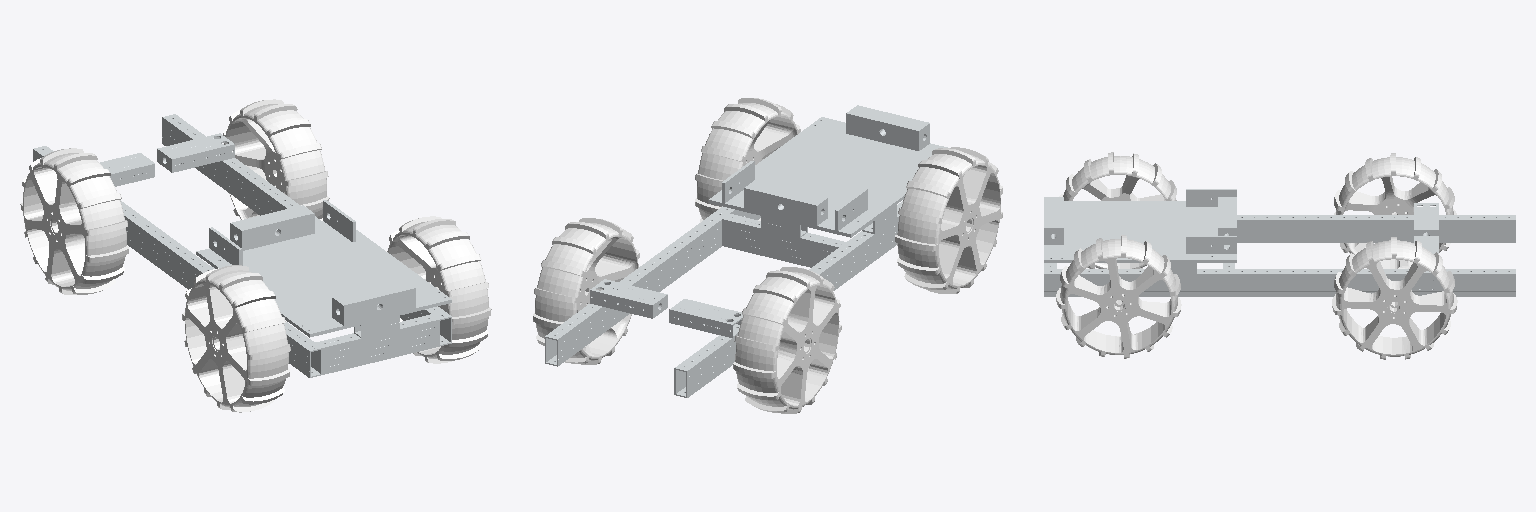
robot.urdf — rmc_robot_model:
<?xml version="1.0" encoding="utf-8"?>
<!-- This URDF was automatically created by SolidWorks to URDF Exporter! Originally created by [author] ([email redacted]) 
     Commit Version: 1.5.1-0-g916b5db  Build Version: 1.5.7152.31018
     For more information, please see http://wiki.ros.org/sw_urdf_exporter -->
<robot
  name="rmc_robot_model">
  <link
    name="drivetrainbase">
    <inertial>
      <origin
        xyz="0.24715 0.13761 -0.49957"
        rpy="0 0 0" />
      <mass
        value="2.0869" />
      <inertia
        ixx="0.13683"
        ixy="1.8812E-09"
        ixz="3.7205E-07"
        iyy="0.13666"
        iyz="-4.5738E-05"
        izz="0.0010745" />
    </inertial>
    <visual>
      <origin
        xyz="0 0 0"
        rpy="0 0 0" />
      <geometry>
        <mesh
          filename="package://rmc_robot_model/meshes/drivetrainbase.STL" />
      </geometry>
      <material
        name="">
        <color
          rgba="0.89804 0.91765 0.92941 1" />
      </material>
    </visual>
    <collision>
      <origin
        xyz="0 0 0"
        rpy="0 0 0" />
      <geometry>
        <mesh
          filename="package://rmc_robot_model/meshes/drivetrainbase.STL" />
      </geometry>
    </collision>
  </link>
  <link
    name="wheel1">
    <inertial>
      <origin
        xyz="-1.7007E-10 2.2216E-10 0.0034061"
        rpy="0 0 0" />
      <mass
        value="1.2142" />
      <inertia
        ixx="0.0059682"
        ixy="-1.7903E-09"
        ixz="-1.7457E-11"
        iyy="0.0059682"
        iyz="9.5183E-12"
        izz="0.01094" />
    </inertial>
    <visual>
      <origin
        xyz="0 0 0"
        rpy="0 0 0" />
      <geometry>
        <mesh
          filename="package://rmc_robot_model/meshes/wheel1.STL" />
      </geometry>
      <material
        name="">
        <color
          rgba="1 1 1 1" />
      </material>
    </visual>
    <collision>
      <origin
        xyz="0 0 0"
        rpy="0 0 0" />
      <geometry>
        <mesh
          filename="package://rmc_robot_model/meshes/wheel1.STL" />
      </geometry>
    </collision>
  </link>
  <joint
    name="axle1"
    type="continuous">
    <origin
      xyz="0.44561 0.1492 0.13512"
      rpy="1.5708 -1.2203 1.5708" />
    <parent
      link="drivetrainbase" />
    <child
      link="wheel1" />
    <axis
      xyz="0 0 1" />
    <limit effort="30" velocity="1.0"/>
  </joint>
  <link
    name="wheel2">
    <inertial>
      <origin
        xyz="2.4559E-10 -9.277E-11 0.0034061"
        rpy="0 0 0" />
      <mass
        value="1.2142" />
      <inertia
        ixx="0.0059682"
        ixy="-9.0135E-10"
        ixz="5.2305E-10"
        iyy="0.0059682"
        iyz="5.1396E-10"
        izz="0.01094" />
    </inertial>
    <visual>
      <origin
        xyz="0 0 0"
        rpy="0 0 0" />
      <geometry>
        <mesh
          filename="package://rmc_robot_model/meshes/wheel2.STL" />
      </geometry>
      <material
        name="">
        <color
          rgba="1 1 1 1" />
      </material>
    </visual>
    <collision>
      <origin
        xyz="0 0 0"
        rpy="0 0 0" />
      <geometry>
        <mesh
          filename="package://rmc_robot_model/meshes/wheel2.STL" />
      </geometry>
    </collision>
  </link>
  <joint
    name="axle2"
    type="continuous">
    <origin
      xyz="0.047286 0.1492 0.13512"
      rpy="-1.5708 1.3729 1.5708" />
    <parent
      link="drivetrainbase" />
    <child
      link="wheel2" />
    <axis
      xyz="0 0 1" />
    <limit effort="30" velocity="1.0"/>
  </joint>
  <link
    name="wheel3">
    <inertial>
      <origin
        xyz="-2.7983E-10 -1.1897E-10 0.0034061"
        rpy="0 0 0" />
      <mass
        value="1.2142" />
      <inertia
        ixx="0.0059682"
        ixy="9.8543E-10"
        ixz="-2.0468E-11"
        iyy="0.0059682"
        iyz="-1.8499E-11"
        izz="0.01094" />
    </inertial>
    <visual>
      <origin
        xyz="0 0 0"
        rpy="0 0 0" />
      <geometry>
        <mesh
          filename="package://rmc_robot_model/meshes/wheel3.STL" />
      </geometry>
      <material
        name="">
        <color
          rgba="1 1 1 1" />
      </material>
    </visual>
    <collision>
      <origin
        xyz="0 0 0"
        rpy="0 0 0" />
      <geometry>
        <mesh
          filename="package://rmc_robot_model/meshes/wheel3.STL" />
      </geometry>
    </collision>
  </link>
  <joint
    name="axle3"
    type="continuous">
    <origin
      xyz="0.44561 0.69879 0.1319"
      rpy="-1.5708 1.5216 -1.5708" />
    <parent
      link="drivetrainbase" />
    <child
      link="wheel3" />
    <axis
      xyz="0 0 1" />
    <limit effort="30" velocity="1.0"/>
  </joint>
  <link
    name="wheel4">
    <inertial>
      <origin
        xyz="-2.9502E-11 3.0394E-10 0.0034061"
        rpy="0 0 0" />
      <mass
        value="1.2142" />
      <inertia
        ixx="0.0059682"
        ixy="4.108E-10"
        ixz="-7.0502E-10"
        iyy="0.0059682"
        iyz="1.9693E-10"
        izz="0.01094" />
    </inertial>
    <visual>
      <origin
        xyz="0 0 0"
        rpy="0 0 0" />
      <geometry>
        <mesh
          filename="package://rmc_robot_model/meshes/wheel4.STL" />
      </geometry>
      <material
        name="">
        <color
          rgba="1 1 1 1" />
      </material>
    </visual>
    <collision>
      <origin
        xyz="0 0 0"
        rpy="0 0 0" />
      <geometry>
        <mesh
          filename="package://rmc_robot_model/meshes/wheel4.STL" />
      </geometry>
    </collision>
  </link>
  <joint
    name="axle4"
    type="continuous">
    <origin
      xyz="0.047286 0.6988 0.13195"
      rpy="1.5708 -0.8569 -1.5708" />
    <parent
      link="drivetrainbase" />
    <child
      link="wheel4" />
    <axis
      xyz="0 0 1" />
    <limit effort="30" velocity="1.0"/>
  </joint>
  <!-- <link
    name="endeffector_rot">
    <inertial>
      <origin
        xyz="-3.0743E-05 -3.3902E-05 0.39042"
        rpy="0 0 0" />
      <mass
        value="0.41314" />
      <inertia
        ixx="0.0203"
        ixy="3.0894E-08"
        ixz="2.0947E-06"
        iyy="0.0203"
        iyz="-3.1155E-07"
        izz="3.6283E-05" />
    </inertial>
    <visual>
      <origin
        xyz="0 0 0"
        rpy="0 0 0" />
      <geometry>
        <mesh
          filename="package://rmc_robot_model/meshes/endeffector_rot.STL" />
      </geometry>
      <material
        name="">
        <color
          rgba="0.89804 0.91765 0.92941 1" />
      </material>
    </visual>
    <collision>
      <origin
        xyz="0 0 0"
        rpy="0 0 0" />
      <geometry>
        <mesh
          filename="package://rmc_robot_model/meshes/endeffector_rot.STL" />
      </geometry>
    </collision>
  </link>
  <joint
    name="linact"
    type="fixed">
    <origin
      xyz="0.24741 1.007 0.078651"
      rpy="1.1868 0 0" />
    <parent
      link="drivetrainbase" />
    <child
      link="endeffector_rot" />
    <axis
      xyz="0 0 0" />
  </joint>
  <link
    name="conveyor">
    <inertial>
      <origin
        xyz="0.054762 -0.10741 0.42733"
        rpy="0 0 0" />
      <mass
        value="0.57399" />
      <inertia
        ixx="0.00053037"
        ixy="4.2246E-13"
        ixz="-2.3791E-13"
        iyy="0.00030696"
        iyz="-4.4476E-08"
        izz="0.00030696" />
    </inertial>
    <visual>
      <origin
        xyz="0 0 0"
        rpy="0 0 0" />
      <geometry>
        <mesh
          filename="package://rmc_robot_model/meshes/conveyor.STL" />
      </geometry>
      <material
        name="">
        <color
          rgba="0.69804 0.69804 0.69804 1" />
      </material>
    </visual>
    <collision>
      <origin
        xyz="0 0 0"
        rpy="0 0 0" />
      <geometry>
        <mesh
          filename="package://rmc_robot_model/meshes/conveyor.STL" />
      </geometry>
    </collision>
  </link>
  <joint
    name="conveyor"
    type="fixed">
    <origin
      xyz="0.075 -0.034756 0.70489"
      rpy="2.8164 0 3.1416" />
    <parent
      link="endeffector_rot" />
    <child
      link="conveyor" />
    <axis
      xyz="0 0 0" />
  </joint>
  <link
    name="linear_trans">
    <inertial>
      <origin
        xyz="-3.0743E-05 -3.3902E-05 0.39042"
        rpy="0 0 0" />
      <mass
        value="0.41314" />
      <inertia
        ixx="0.0203"
        ixy="3.0894E-08"
        ixz="2.0947E-06"
        iyy="0.0203"
        iyz="-3.1155E-07"
        izz="3.6283E-05" />
    </inertial>
    <visual>
      <origin
        xyz="0 0 0"
        rpy="0 0 0" />
      <geometry>
        <mesh
          filename="package://rmc_robot_model/meshes/linear_trans.STL" />
      </geometry>
      <material
        name="">
        <color
          rgba="0.89804 0.91765 0.92941 1" />
      </material>
    </visual>
    <collision>
      <origin
        xyz="0 0 0"
        rpy="0 0 0" />
      <geometry>
        <mesh
          filename="package://rmc_robot_model/meshes/linear_trans.STL" />
      </geometry>
    </collision>
  </link>
  <joint
    name="rackpin"
    type="fixed">
    <origin
      xyz="0 0 0"
      rpy="0 0 0" />
    <parent
      link="endeffector_rot" />
    <child
      link="linear_trans" />
    <axis
      xyz="0 0 0" />
  </joint>
  <link
    name="dispense">
    <inertial>
      <origin
        xyz="0.1907 -0.0054153 0"
        rpy="0 0 0" />
      <mass
        value="0.74123" />
      <inertia
        ixx="0.0052178"
        ixy="-2.515E-05"
        ixz="-2.0266E-18"
        iyy="0.014867"
        iyz="-3.452E-17"
        izz="0.0097582" />
    </inertial>
    <visual>
      <origin
        xyz="0 0 0"
        rpy="0 0 0" />
      <geometry>
        <mesh
          filename="package://rmc_robot_model/meshes/dispense.STL" />
      </geometry>
      <material
        name="">
        <color
          rgba="0.79216 0.81961 0.93333 1" />
      </material>
    </visual>
    <collision>
      <origin
        xyz="0 0 0"
        rpy="0 0 0" />
      <geometry>
        <mesh
          filename="package://rmc_robot_model/meshes/dispense.STL" />
      </geometry>
    </collision>
  </link>
  <joint
    name="dis"
    type="fixed">
    <origin
      xyz="0.24486 0.00083263 0.37471"
      rpy="1.5708 0 1.5708" />
    <parent
      link="drivetrainbase" />
    <child
      link="dispense" />
    <axis
      xyz="0 0 0" />
  </joint> -->
  <transmission name="wheel1_trans">
    <type>transmission_interface/SimpleTransmission</type>
    <actuator name="$wheel1_motor">
      <mechanicalReduction>1</mechanicalReduction>
    </actuator>
    <joint name="axle1">
      <hardwareInterface>PositionJointInterface</hardwareInterface>
    </joint>
  </transmission>
  <transmission name="wheel2_trans">
    <type>transmission_interface/SimpleTransmission</type>
    <actuator name="$wheel2_motor">
      <mechanicalReduction>1</mechanicalReduction>
    </actuator>
    <joint name="axle2">
      <hardwareInterface>PositionJointInterface</hardwareInterface>
    </joint>
  </transmission>
  <transmission name="wheel3_trans">
    <type>transmission_interface/SimpleTransmission</type>
    <actuator name="$wheel3_motor">
      <mechanicalReduction>1</mechanicalReduction>
    </actuator>
    <joint name="axle3">
      <hardwareInterface>PositionJointInterface</hardwareInterface>
    </joint>
  </transmission>
  <transmission name="wheel4_trans">
    <type>transmission_interface/SimpleTransmission</type>
    <actuator name="$wheel4_motor">
      <mechanicalReduction>1</mechanicalReduction>
    </actuator>
    <joint name="axle4">
      <hardwareInterface>PositionJointInterface</hardwareInterface>
    </joint>
  </transmission>
  <gazebo>
    <plugin name="gazebo_ros_control" filename="libgazebo_ros_control.so">
      <robotNamespace>/</robotNamespace>
    </plugin>
  </gazebo>
  
</robot>

--- Render facts (derived) ---
Views: 3 orthographic renders of the robot side by side, from view 1: azimuth 30°, elevation 25°; view 2: azimuth 150°, elevation 25°; view 3: azimuth 270°, elevation 25°.
Model rmc_robot_model with 5 links and 4 joints (4 continuous), rooted at drivetrainbase, posed all joints at 0.
Visible links, largest first — view 1: drivetrainbase, wheel2, wheel4, wheel1, wheel3; view 2: drivetrainbase, wheel4, wheel2, wheel3, wheel1; view 3: drivetrainbase, wheel3, wheel1, wheel4, wheel2.
Link boxes in pixels (x1=…): drivetrainbase: x1=33, y1=114, x2=451, y2=377; wheel2: x1=182, y1=265, x2=290, y2=412; wheel4: x1=20, y1=148, x2=128, y2=294; wheel1: x1=386, y1=216, x2=491, y2=363; wheel3: x1=223, y1=99, x2=329, y2=220; drivetrainbase: x1=545, y1=105, x2=947, y2=397; wheel4: x1=733, y1=267, x2=841, y2=413; wheel2: x1=895, y1=147, x2=1002, y2=293; wheel3: x1=533, y1=218, x2=639, y2=364; wheel1: x1=695, y1=98, x2=800, y2=222; drivetrainbase: x1=1044, y1=189, x2=1515, y2=296; wheel3: x1=1332, y1=237, x2=1457, y2=359; wheel1: x1=1056, y1=235, x2=1181, y2=358; wheel4: x1=1334, y1=153, x2=1456, y2=268; wheel2: x1=1059, y1=152, x2=1176, y2=268.
Bounding box of the posed robot: 0.4729 × 0.9398 × 0.2534 m (x, y, z).
5 mesh visuals loaded from 5 distinct referenced files (5 binary STL).